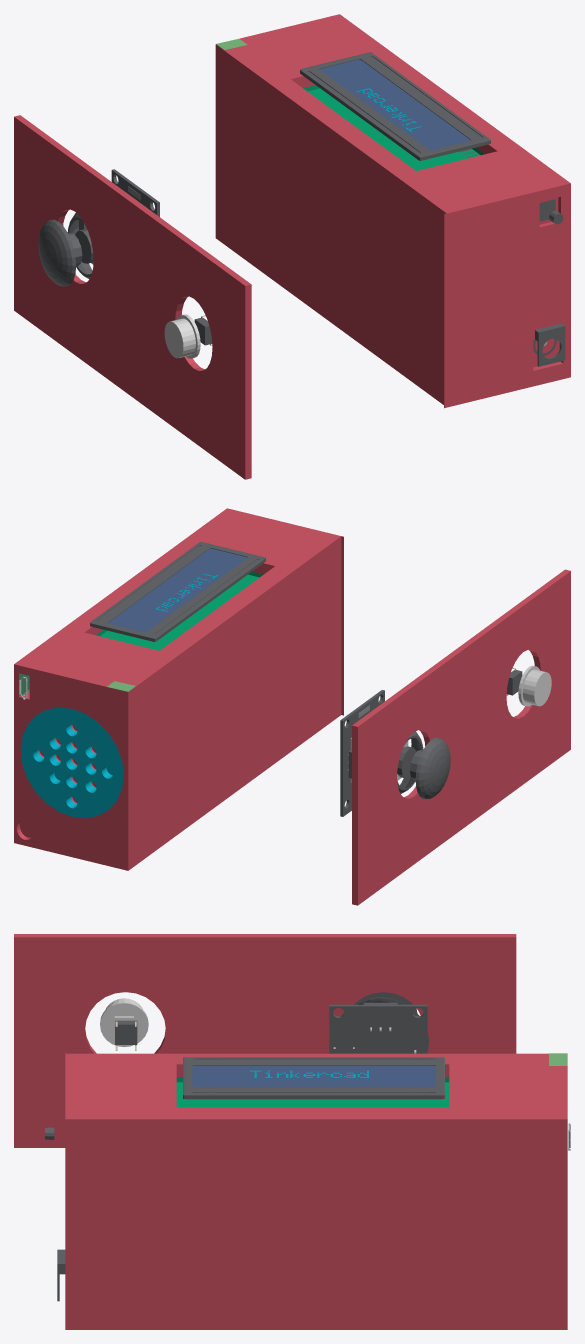
File: projeto_tabela_glb.glb
3 views of the same model, one above another, from view 1: azimuth 30°, elevation 25°; view 2: azimuth 150°, elevation 25°; view 3: azimuth 270°, elevation 25° (orthographic). The views are drawn at different scales.
Visible parts, largest first — view 1: Mesh_Mesh_head_geo.001_lambert2SG.001; view 2: Mesh_Mesh_head_geo.001_lambert2SG.001; view 3: Mesh_Mesh_head_geo.001_lambert2SG.001.
Boxes of the visible parts, x1,y1,x2,y2 form: Mesh_Mesh_head_geo.001_lambert2SG.001: [14, 14, 570, 479]; Mesh_Mesh_head_geo.001_lambert2SG.001: [14, 508, 570, 905]; Mesh_Mesh_head_geo.001_lambert2SG.001: [14, 934, 570, 1329].
Size of the model in its own units: 127 by 65.3 by 149.
